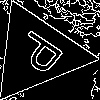P: (12, 28, 74, 82)
